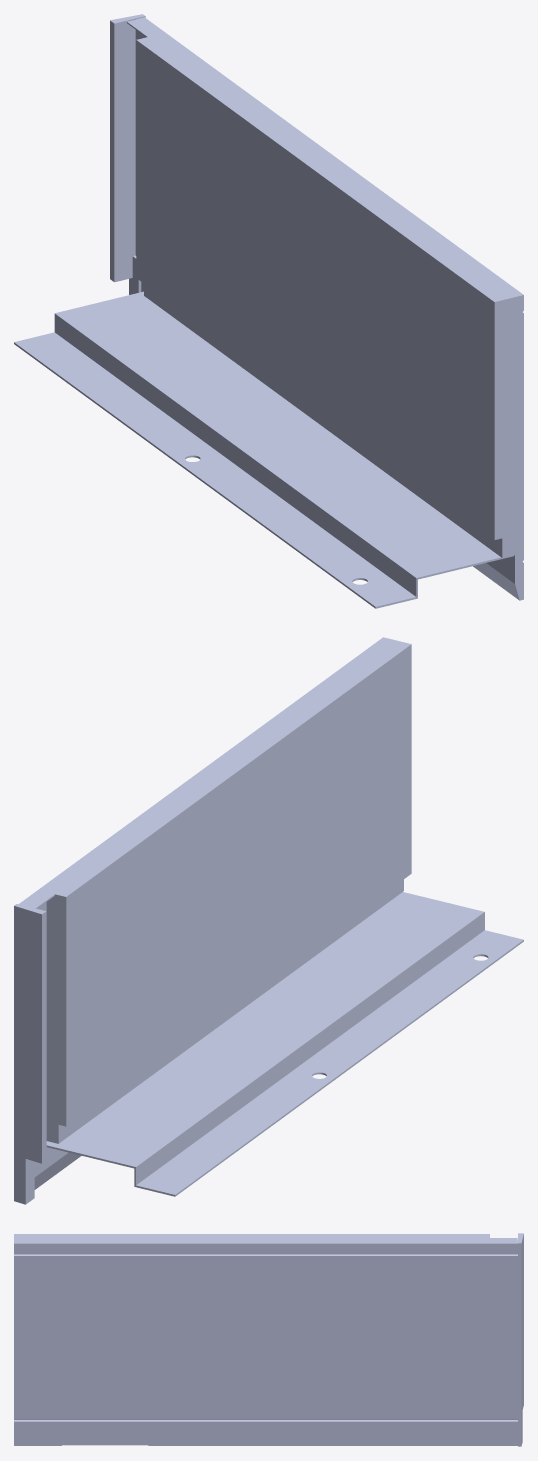
File: lg-kava-K300-m.glb
3 renders of one model, top to bottom at view 1: azimuth 30°, elevation 25°; view 2: azimuth 150°, elevation 25°; view 3: azimuth 270°, elevation 25°, orthographic. The views are drawn at different scales.
Visible parts, largest first — view 1: 42153739; view 2: 42153739; view 3: 42153739.
Part boxes in pixels (bbox=[...]): 42153739: bbox=[14, 14, 523, 608]; 42153739: bbox=[14, 637, 523, 1204]; 42153739: bbox=[14, 1233, 523, 1446].
Bounding box in the file's own units: 0.0653 × 0.1292 × 0.2935.
